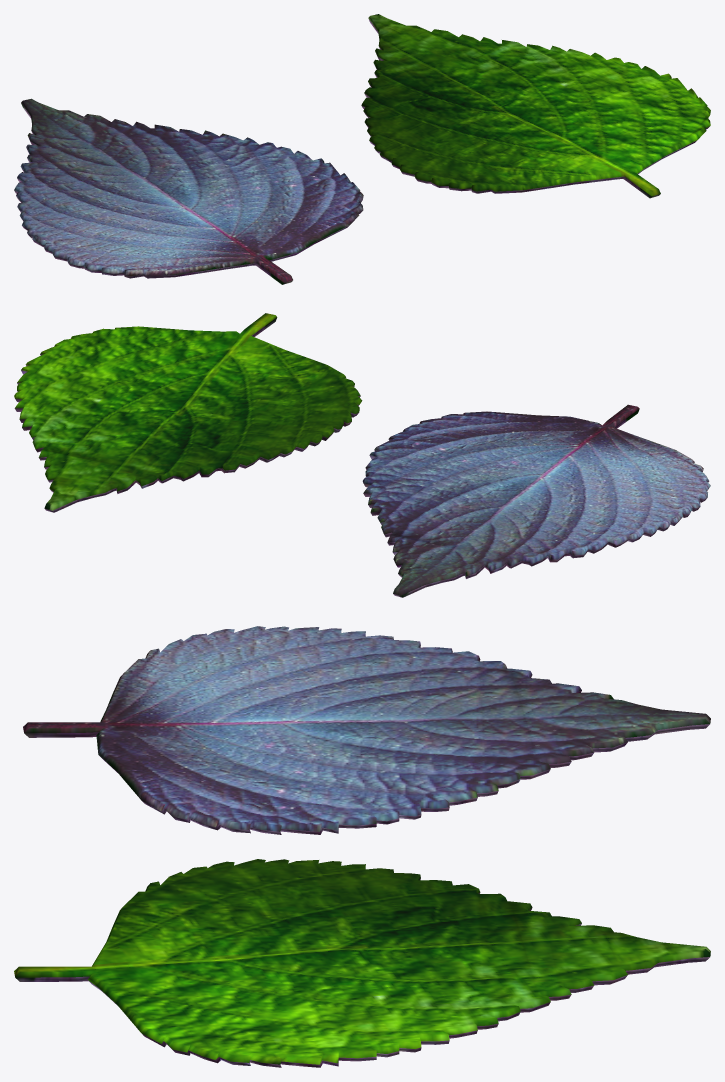
Rendered from zisuye.FBX.
3 views of the same model, one above another, from view 1: azimuth 30°, elevation 25°; view 2: azimuth 150°, elevation 25°; view 3: azimuth 270°, elevation 25° (orthographic). The views are drawn at different scales.
Visible parts, largest first — view 1: Line002, Line001; view 2: Line002, Line001; view 3: Line002, Line001.
Part boxes in pixels (x1,y1,x2,y2): Line002: (361,14,710,198); Line001: (14,98,363,284); Line002: (14,313,362,512); Line001: (362,404,710,597); Line002: (14,859,710,1067); Line001: (23,626,710,834).
Bounding box in the file's own units: 50.69 × 0.5 × 34.3.
1 material, 1 textured.
